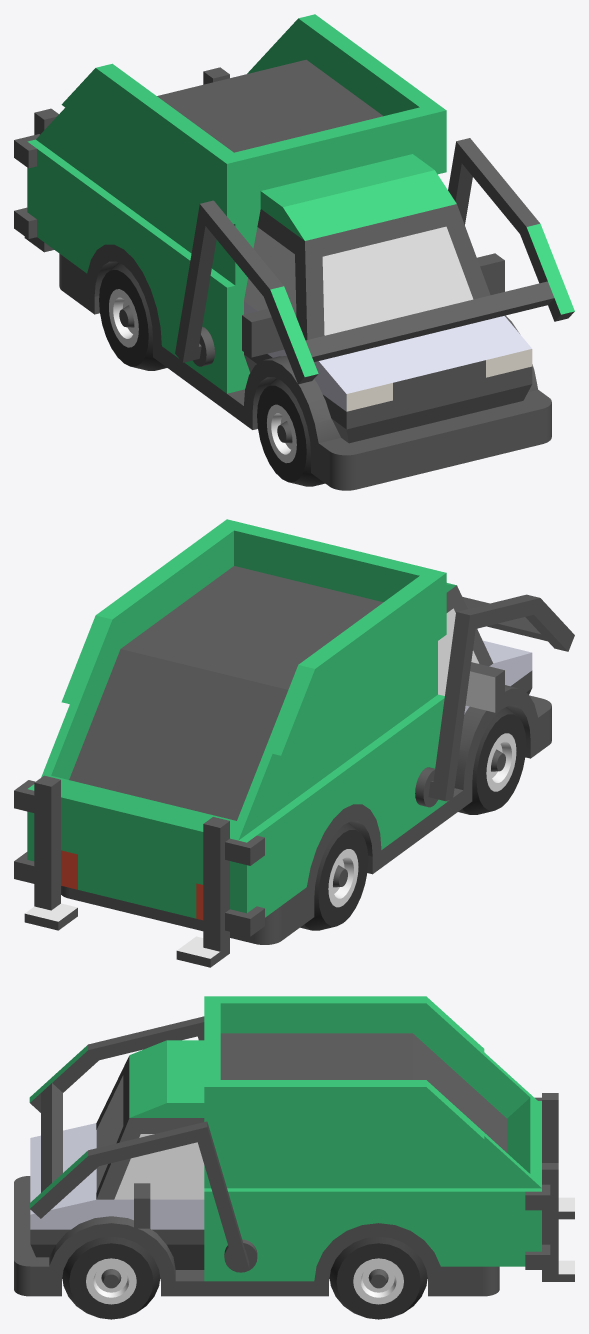
File: garbageTruck.fbx
3 renders of one model, top to bottom at view 1: azimuth 30°, elevation 25°; view 2: azimuth 150°, elevation 25°; view 3: azimuth 270°, elevation 25°, orthographic. The views are drawn at different scales.
Parts seen in each view (by area): view 1: body, arm, wheel_frontRight, wheel_backRight; view 2: body, arm, wheel_backRight, wheel_frontRight; view 3: body, arm, wheel_backLeft, wheel_frontLeft.
Boxes of the visible parts, bbox=[...] form: body: bbox=[14, 14, 551, 490]; arm: bbox=[175, 138, 574, 384]; wheel_frontRight: bbox=[257, 378, 324, 486]; wheel_backRight: bbox=[99, 263, 166, 370]; body: bbox=[14, 519, 551, 967]; arm: bbox=[415, 594, 574, 807]; wheel_backRight: bbox=[300, 822, 368, 930]; wheel_frontRight: bbox=[458, 707, 526, 814]; body: bbox=[14, 996, 574, 1296]; arm: bbox=[29, 1016, 257, 1272]; wheel_backLeft: bbox=[329, 1236, 427, 1319]; wheel_frontLeft: bbox=[62, 1236, 160, 1319].
Size of the model in its own units: 16 by 16 by 34.
